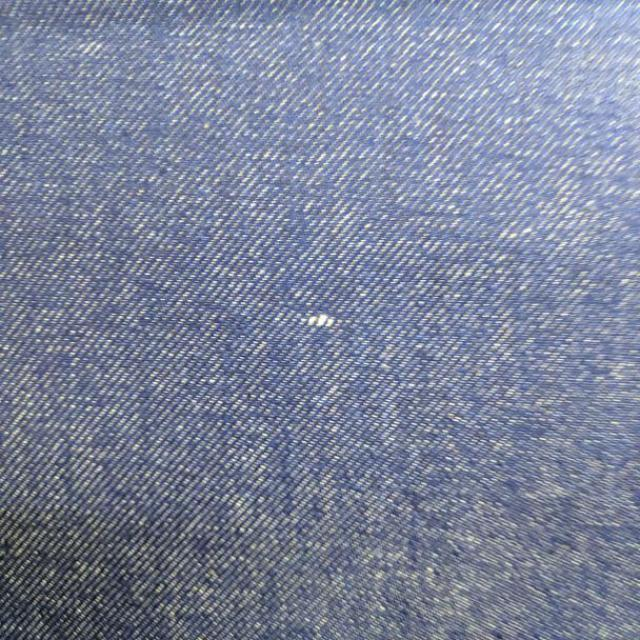Knot: (302, 314, 336, 328)
